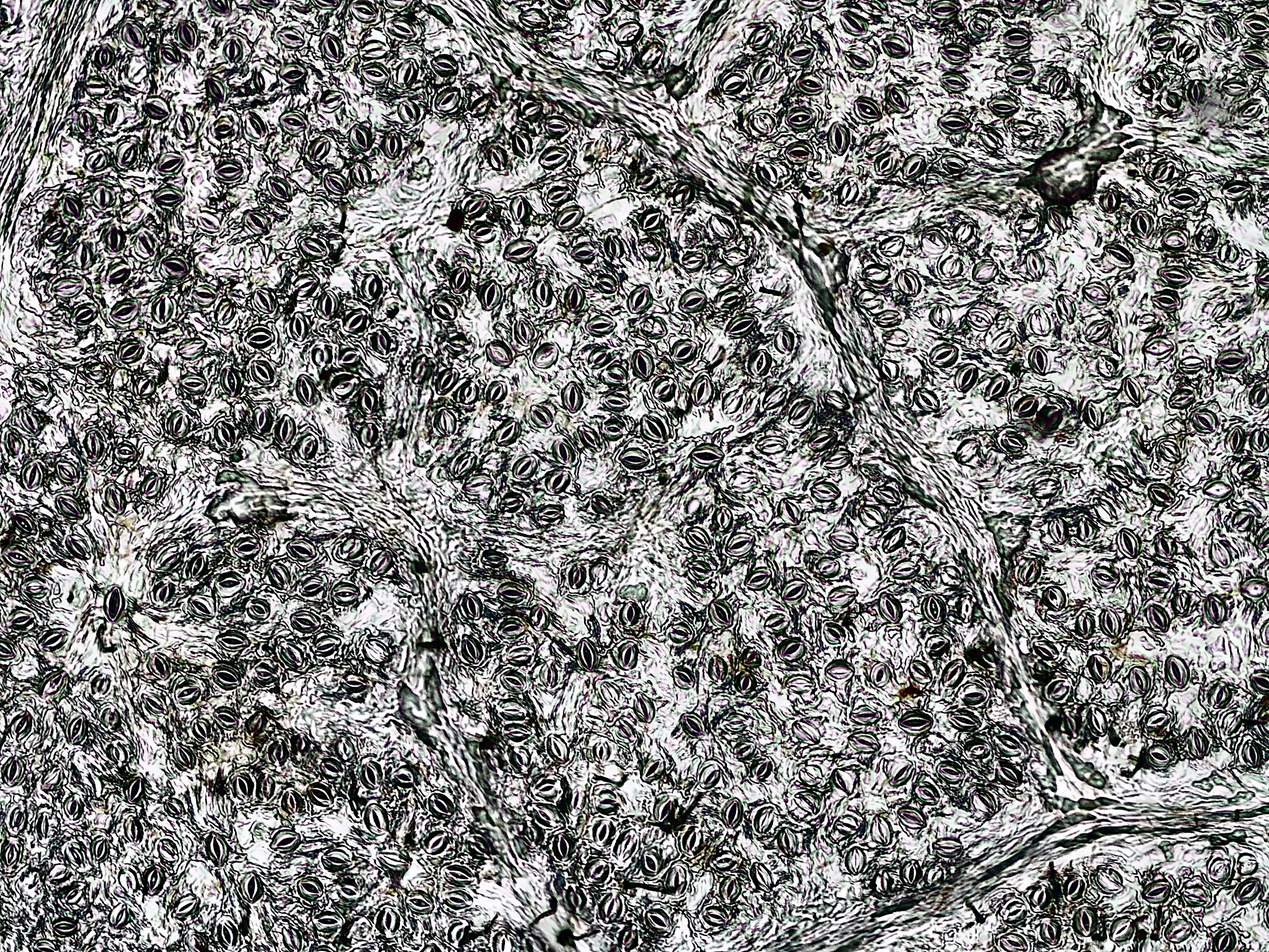stomata: (36, 669, 69, 705), (145, 540, 181, 570), (343, 916, 375, 947), (724, 312, 760, 338), (83, 429, 108, 465), (876, 592, 904, 624), (1, 754, 28, 787), (1185, 723, 1209, 760), (1163, 654, 1189, 688), (384, 14, 419, 39), (103, 481, 128, 516), (17, 577, 52, 602), (115, 139, 142, 171), (62, 713, 89, 745), (995, 731, 1027, 758), (613, 639, 639, 672), (1116, 527, 1142, 560), (9, 708, 34, 742), (377, 847, 411, 872), (852, 96, 883, 123), (1102, 242, 1133, 269), (1156, 263, 1194, 285), (104, 587, 127, 623), (828, 121, 851, 157), (1122, 376, 1147, 409), (20, 458, 44, 492), (33, 811, 57, 845), (479, 277, 503, 311), (363, 636, 391, 665), (707, 599, 736, 627), (553, 206, 584, 232), (844, 44, 875, 70), (1094, 867, 1125, 893), (207, 832, 230, 867), (214, 629, 249, 652), (939, 41, 974, 64), (176, 19, 201, 51), (109, 298, 141, 323), (364, 803, 389, 835), (613, 828, 638, 860), (718, 874, 743, 906), (1209, 13, 1234, 45), (825, 584, 858, 608), (1204, 594, 1228, 627), (640, 413, 667, 442), (937, 112, 971, 135), (898, 712, 932, 735), (319, 32, 345, 62), (287, 537, 317, 563), (1038, 918, 1064, 948), (817, 448, 854, 469), (358, 60, 389, 85), (215, 573, 246, 598), (376, 906, 401, 937), (546, 732, 571, 763), (1215, 348, 1246, 373), (278, 111, 310, 135), (269, 828, 301, 852), (599, 892, 623, 924), (691, 443, 723, 467), (1085, 705, 1109, 737), (937, 69, 970, 92), (956, 592, 979, 625), (433, 84, 460, 112), (303, 135, 331, 162), (12, 509, 40, 536), (342, 307, 370, 334), (279, 640, 306, 668), (460, 189, 487, 217), (685, 525, 713, 552), (432, 409, 458, 438), (495, 416, 521, 445), (882, 33, 911, 59), (997, 429, 1026, 455), (395, 58, 420, 88), (117, 339, 147, 364), (918, 229, 948, 254), (50, 276, 84, 298), (504, 241, 538, 263), (561, 380, 583, 414), (847, 731, 881, 753), (429, 53, 460, 77), (349, 122, 373, 153), (212, 158, 243, 182), (220, 365, 244, 396), (240, 872, 264, 903), (287, 311, 311, 342), (213, 664, 244, 688), (927, 342, 958, 366), (253, 64, 276, 96), (150, 292, 173, 324), (887, 81, 910, 113), (931, 836, 963, 859), (137, 472, 164, 499), (56, 493, 84, 519), (329, 372, 357, 398), (614, 20, 642, 46), (511, 454, 539, 480), (785, 139, 813, 165), (972, 789, 1000, 815), (1092, 496, 1118, 524), (1014, 557, 1040, 585), (152, 186, 185, 208), (3, 544, 36, 566), (5, 803, 27, 836), (295, 373, 317, 406), (577, 638, 599, 671), (988, 95, 1021, 117), (5, 605, 34, 630), (329, 581, 358, 606), (777, 637, 806, 662), (983, 371, 1008, 400), (792, 720, 821, 745), (1142, 880, 1171, 905), (298, 235, 328, 259), (19, 406, 43, 436), (369, 548, 393, 578), (538, 145, 568, 169), (678, 289, 708, 313), (1145, 0, 1185, 18), (1044, 205, 1068, 235), (954, 363, 978, 393), (868, 815, 892, 845), (122, 19, 145, 50), (381, 129, 404, 160), (176, 337, 207, 360), (216, 919, 239, 950), (312, 909, 343, 932), (244, 324, 275, 347), (291, 610, 322, 633), (361, 759, 384, 790), (586, 313, 617, 336), (724, 532, 755, 555), (1142, 336, 1173, 359), (1088, 653, 1111, 684), (682, 825, 704, 857), (810, 480, 842, 502), (850, 705, 882, 727), (1247, 379, 1269, 411), (245, 208, 271, 235), (66, 534, 93, 560), (292, 271, 319, 297), (428, 793, 455, 819), (486, 340, 513, 366), (860, 503, 887, 529), (1144, 706, 1170, 733), (62, 792, 87, 820), (644, 908, 672, 933), (671, 338, 699, 363), (895, 270, 920, 298), (927, 302, 952, 330), (940, 658, 965, 686), (1091, 564, 1119, 589), (157, 151, 186, 175), (39, 627, 68, 651), (839, 11, 868, 35), (1148, 483, 1177, 507), (461, 631, 482, 664), (890, 560, 923, 581), (207, 76, 230, 106), (185, 595, 215, 618), (442, 863, 472, 886), (410, 354, 433, 384), (751, 862, 774, 892), (786, 107, 816, 130), (628, 284, 651, 314), (825, 658, 855, 681), (1147, 604, 1170, 634), (108, 737, 130, 768), (691, 376, 713, 407), (721, 798, 743, 829), (903, 151, 925, 182), (1030, 345, 1052, 376), (544, 468, 570, 494), (1028, 887, 1054, 913), (323, 171, 350, 196), (252, 285, 277, 312), (244, 596, 271, 621), (1205, 480, 1232, 505), (280, 62, 308, 86), (65, 840, 89, 868), (174, 682, 202, 706), (323, 847, 351, 871), (519, 7, 551, 28), (570, 241, 598, 265), (531, 803, 559, 827), (697, 760, 721, 788), (1097, 184, 1121, 212), (949, 710, 981, 731), (960, 681, 988, 705), (1128, 665, 1149, 697), (1164, 920, 1192, 944), (349, 0, 378, 23), (0, 635, 23, 664), (99, 705, 122, 734), (280, 923, 303, 952), (469, 221, 498, 244), (1005, 62, 1034, 85), (1153, 289, 1182, 312), (1083, 319, 1112, 342), (1072, 907, 1095, 936), (357, 39, 390, 59), (233, 536, 263, 558), (442, 888, 472, 910), (531, 278, 553, 308), (715, 288, 745, 310), (639, 316, 669, 338), (860, 263, 890, 285), (895, 807, 925, 829), (997, 932, 1030, 952), (351, 160, 372, 191), (619, 448, 650, 469), (144, 95, 170, 120), (24, 373, 49, 399), (250, 359, 275, 385), (339, 535, 364, 561), (639, 43, 664, 69), (640, 755, 665, 781), (914, 388, 940, 413), (1093, 353, 1119, 378), (1001, 899, 1027, 924), (316, 87, 343, 111), (172, 894, 199, 918), (406, 890, 433, 914), (446, 919, 470, 946), (452, 451, 476, 478), (720, 71, 747, 95), (744, 566, 771, 590), (1036, 405, 1063, 429), (1180, 884, 1207, 908), (275, 413, 294, 447), (162, 256, 190, 279), (134, 373, 157, 401), (359, 272, 382, 300), (166, 409, 189, 437), (141, 692, 169, 715), (710, 850, 738, 873), (1132, 211, 1155, 239), (972, 260, 1000, 283), (922, 595, 945, 623), (1083, 282, 1111, 305), (318, 289, 338, 321), (94, 43, 116, 72), (245, 110, 267, 139), (185, 551, 207, 580), (552, 832, 574, 861), (901, 859, 923, 888), (1211, 539, 1233, 568), (1240, 741, 1262, 770), (179, 375, 209, 396), (143, 865, 164, 895), (514, 316, 535, 346), (502, 721, 532, 742), (786, 42, 816, 63), (633, 350, 654, 380), (720, 712, 750, 733), (777, 828, 798, 858), (872, 485, 902, 506), (585, 860, 610, 885), (268, 175, 292, 201), (147, 653, 171, 679), (468, 834, 492, 860), (752, 59, 776, 85), (652, 375, 676, 401), (966, 307, 992, 331), (955, 438, 979, 464), (889, 759, 913, 785), (1107, 464, 1133, 488), (1110, 917, 1134, 943), (1235, 879, 1261, 903), (84, 75, 111, 98), (70, 301, 97, 324), (41, 764, 64, 791), (297, 877, 324, 900), (449, 267, 472, 294), (534, 345, 561, 368), (460, 592, 483, 619), (587, 557, 610, 584), (592, 818, 615, 845), (749, 349, 772, 376), (790, 398, 813, 425), (729, 471, 756, 494), (779, 497, 802, 524), (990, 332, 1017, 355), (1029, 309, 1052, 336), (882, 526, 905, 553), (937, 760, 964, 783), (635, 692, 655, 723), (564, 282, 584, 313), (756, 435, 787, 455), (213, 420, 235, 448), (722, 246, 750, 268), (808, 428, 836, 450), (1195, 223, 1217, 251), (832, 766, 854, 794), (1167, 387, 1195, 409), (136, 230, 157, 259), (358, 386, 379, 415), (282, 788, 303, 817), (1002, 28, 1031, 49), (1100, 609, 1121, 638), (1209, 680, 1230, 709), (1063, 874, 1084, 903), (469, 93, 494, 117), (123, 815, 143, 845), (270, 562, 290, 592), (422, 829, 447, 853), (447, 332, 471, 357), (496, 617, 526, 637), (620, 597, 640, 627), (710, 213, 735, 237), (981, 126, 1005, 151), (916, 781, 941, 805), (84, 149, 110, 172), (103, 224, 126, 250), (1043, 678, 1069, 701), (1212, 929, 1238, 952), (926, 0, 961, 17), (223, 38, 245, 65), (191, 285, 218, 307), (397, 97, 419, 124), (118, 867, 140, 894), (313, 635, 340, 657), (485, 379, 507, 406), (687, 558, 714, 580), (781, 579, 808, 601), (1242, 47, 1269, 69), (812, 557, 839, 579), (1218, 708, 1240, 735), (666, 864, 685, 895), (829, 531, 860, 550), (785, 675, 816, 694), (105, 101, 126, 129), (214, 298, 235, 326), (341, 672, 369, 693), (191, 716, 212, 744), (673, 180, 694, 208), (602, 391, 630, 412), (1161, 229, 1189, 250), (1225, 426, 1246, 454), (1077, 515, 1098, 543), (109, 901, 129, 930), (268, 738, 288, 767), (438, 367, 458, 396), (539, 660, 559, 689), (499, 699, 528, 719), (666, 622, 695, 642), (754, 805, 774, 834), (1084, 400, 1104, 429), (845, 847, 865, 876), (1249, 424, 1269, 453), (1050, 517, 1070, 546), (125, 771, 142, 805), (163, 796, 187, 820), (529, 403, 553, 427), (865, 132, 889, 156), (1245, 11, 1269, 35), (1027, 249, 1045, 281), (1239, 457, 1263, 481), (210, 115, 235, 138), (92, 186, 115, 211), (254, 663, 279, 686), (307, 784, 332, 807), (751, 758, 774, 783), (152, 580, 174, 606), (173, 742, 195, 768), (487, 144, 509, 170), (873, 151, 895, 177), (711, 264, 737, 286), (682, 711, 704, 737), (1047, 71, 1069, 97), (824, 620, 846, 646), (964, 738, 990, 760), (510, 194, 529, 224), (181, 931, 208, 952), (299, 576, 326, 597), (538, 502, 565, 523), (553, 438, 574, 465), (500, 670, 527, 691), (602, 365, 629, 386), (940, 153, 967, 174), (1178, 355, 1205, 376), (92, 672, 112, 700), (513, 130, 533, 158), (464, 475, 492, 495), (498, 582, 526, 602), (857, 289, 885, 309), (115, 440, 139, 463), (747, 25, 771, 48), (940, 255, 964, 278), (996, 763, 1020, 786), (800, 764, 824, 787), (1146, 744, 1170, 767), (91, 834, 110, 863), (252, 406, 271, 435), (506, 648, 535, 667), (619, 923, 638, 952), (1030, 479, 1059, 498), (1155, 532, 1174, 561), (1075, 611, 1094, 640), (214, 707, 239, 729), (615, 719, 637, 744), (772, 329, 794, 354), (764, 384, 786, 409), (1208, 857, 1230, 882), (358, 421, 379, 447), (1012, 120, 1038, 141), (794, 792, 820, 813), (834, 814, 860, 835), (78, 108, 98, 135), (75, 240, 93, 270), (233, 774, 253, 801), (712, 505, 732, 532), (708, 656, 728, 683), (923, 634, 950, 654), (872, 869, 892, 896), (826, 388, 849, 411), (910, 660, 933, 683), (43, 224, 67, 246), (56, 460, 78, 484), (1221, 181, 1252, 198), (279, 26, 304, 47), (53, 916, 78, 937), (392, 765, 417, 786), (433, 299, 458, 320), (598, 680, 619, 705), (533, 777, 558, 798), (1185, 80, 1206, 105), (1150, 160, 1175, 181), (1044, 586, 1065, 611), (257, 773, 275, 802), (839, 178, 857, 207), (292, 732, 312, 758), (703, 906, 729, 926), (763, 612, 789, 632), (1224, 77, 1250, 97), (1149, 31, 1175, 51), (883, 328, 909, 348), (1240, 577, 1266, 597), (174, 113, 193, 140), (531, 604, 550, 631), (656, 795, 675, 822), (1057, 294, 1074, 324), (62, 196, 84, 219), (107, 262, 130, 284), (198, 209, 221, 231), (245, 711, 267, 734), (491, 929, 513, 952), (595, 791, 617, 814), (638, 238, 660, 261), (878, 357, 900, 380), (1231, 508, 1253, 531), (2, 841, 20, 869), (157, 838, 178, 862), (597, 49, 621, 70), (500, 492, 524, 513), (480, 549, 508, 567), (1136, 312, 1160, 333), (1034, 639, 1058, 660), (298, 434, 318, 459), (336, 880, 361, 900), (757, 160, 777, 185), (797, 75, 823, 94), (566, 885, 584, 912), (1170, 190, 1197, 208), (1147, 572, 1174, 590), (520, 98, 542, 120), (509, 746, 531, 768), (588, 344, 610, 366), (673, 666, 695, 688), (1193, 409, 1215, 431), (371, 330, 392, 353), (940, 564, 963, 585), (1159, 442, 1182, 463), (312, 344, 332, 368), (641, 850, 661, 874), (723, 390, 743, 414), (732, 739, 756, 759), (880, 236, 904, 256), (1015, 213, 1039, 233), (1237, 852, 1257, 876), (570, 563, 587, 591), (871, 662, 890, 687), (1172, 591, 1190, 617), (569, 786, 585, 815), (872, 310, 901, 326), (84, 359, 106, 380), (547, 185, 569, 206), (595, 272, 617, 293), (603, 418, 624, 440), (1013, 394, 1034, 416), (753, 111, 773, 134), (578, 426, 598, 449), (951, 223, 974, 243), (545, 117, 569, 136), (736, 670, 755, 694), (5, 430, 23, 455), (336, 736, 354, 761), (461, 380, 479, 405), (593, 739, 611, 764), (792, 0, 826, 13), (682, 250, 703, 271), (591, 494, 612, 515), (485, 750, 505, 772), (636, 171, 659, 190), (967, 17, 990, 36), (1250, 671, 1269, 694), (585, 0, 614, 15), (1220, 241, 1238, 265), (159, 44, 180, 64), (48, 862, 69, 882), (208, 0, 232, 17), (63, 885, 84, 904), (321, 758, 340, 779), (642, 210, 661, 231), (1180, 42, 1199, 63), (1240, 100, 1261, 119), (1141, 71, 1160, 92), (605, 235, 621, 259), (1210, 301, 1229, 321), (339, 347, 360, 365), (741, 646, 759, 666), (1163, 94, 1181, 114), (1257, 527, 1269, 554), (33, 938, 55, 952), (312, 0, 341, 10), (251, 0, 279, 10), (1255, 268, 1269, 288), (1002, 0, 1026, 11), (548, 0, 572, 9), (626, 0, 648, 9)
